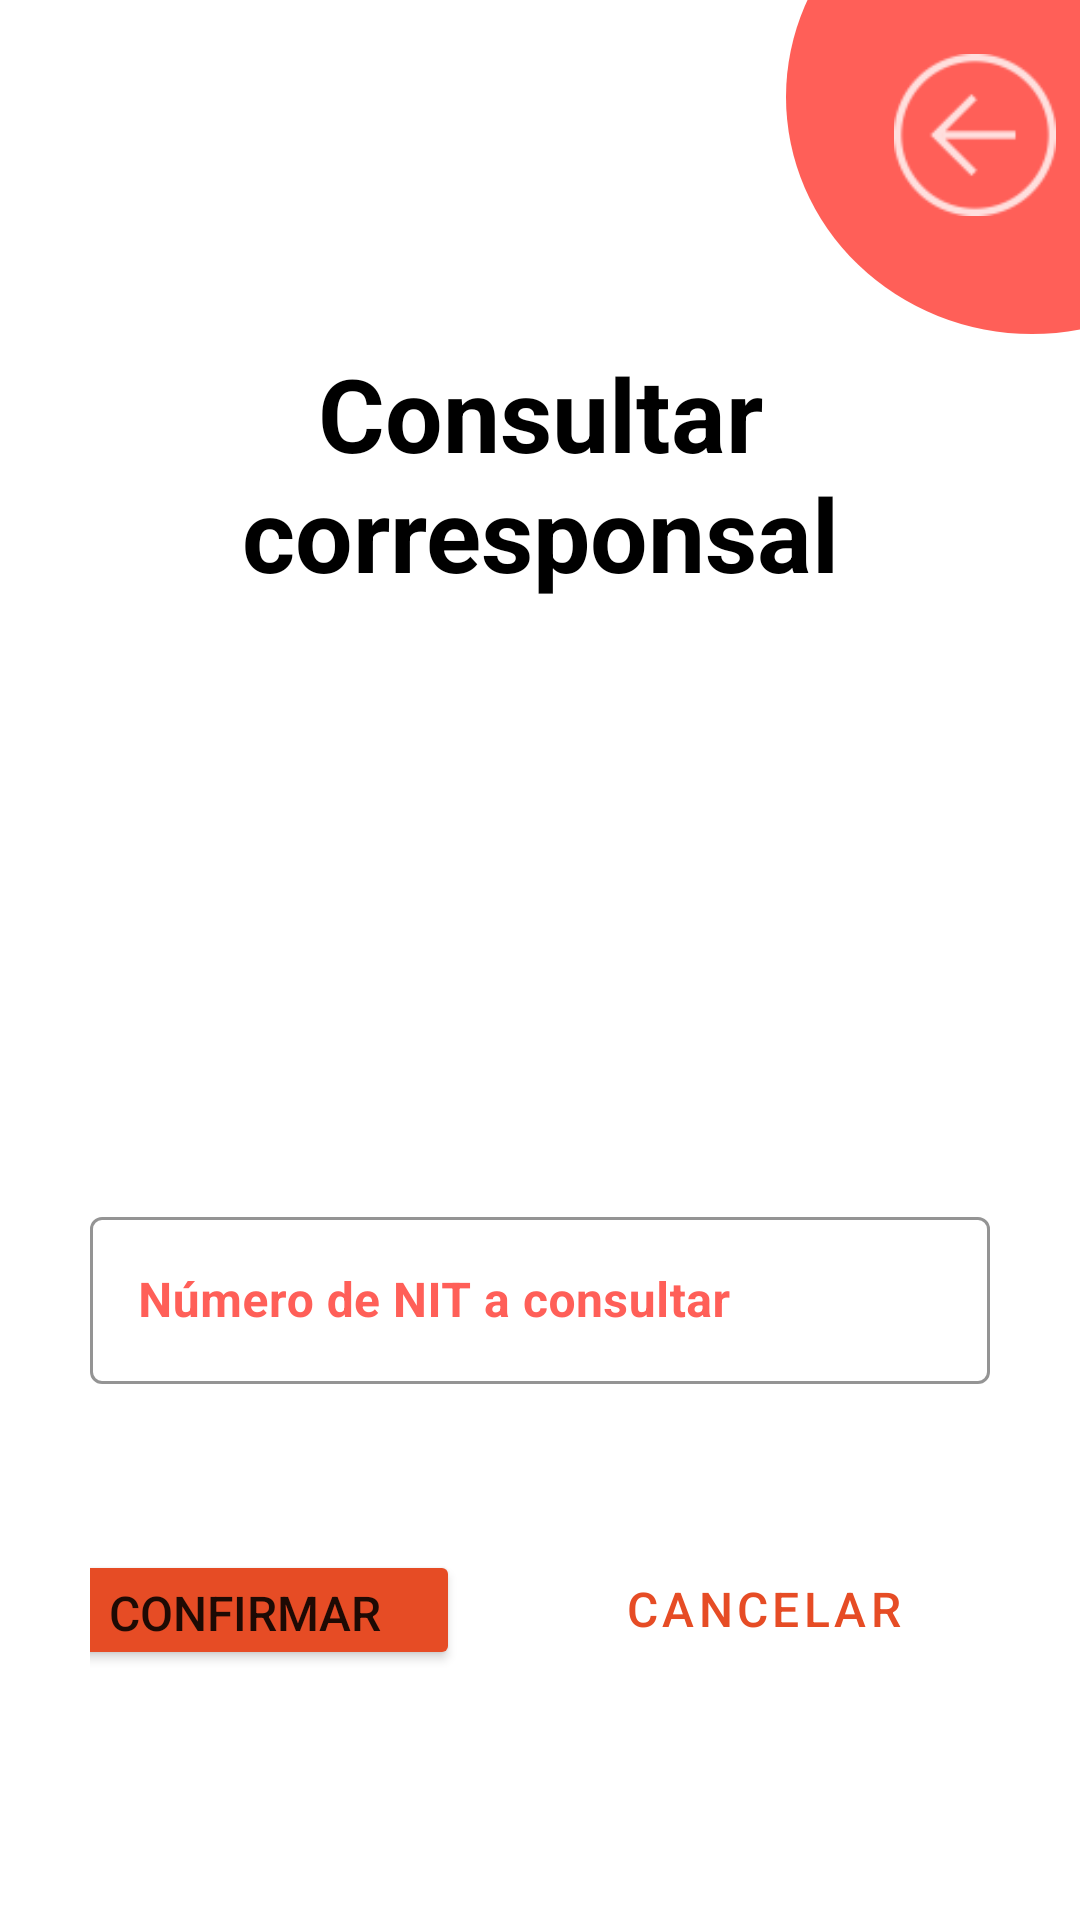

Point at icon controls on the screen. Image size 1080px×1920px, points as [x,y].
arrowback: [975,135]
